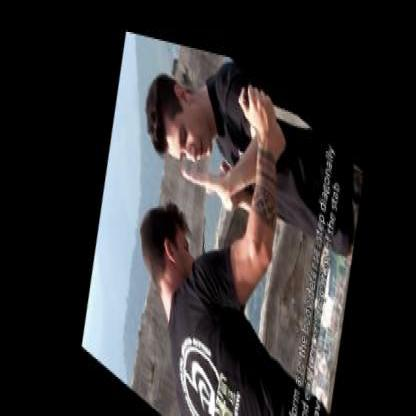knife: (233, 54, 312, 158)
